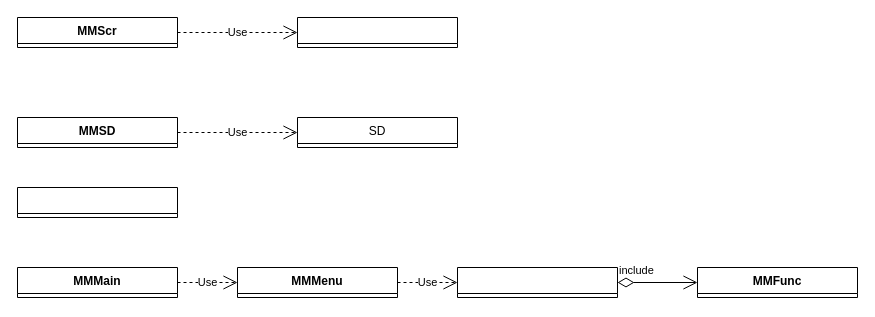
Some shapes in this 875 by 317 pixel diagram are drawn without their labels. Here are the shapes that lost their labels. From the top down, the centre of each, then its label:
At point (377, 32): "Adafruit_NeoMatrix".
At point (97, 202): "MMConfig".
At point (537, 282): "MMFuncPool".
